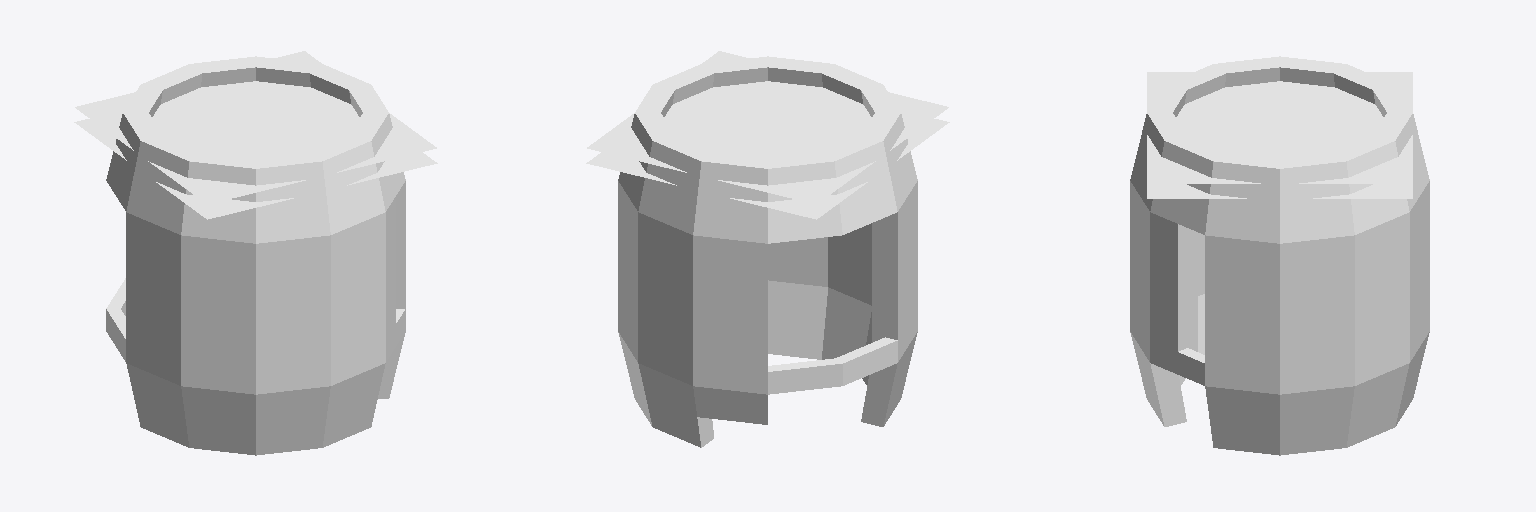
File: broken_rusty_round_barrel_down.obj
The picture shows the model from 3 angles: view 1: azimuth 30°, elevation 25°; view 2: azimuth 150°, elevation 25°; view 3: azimuth 270°, elevation 25°; orthographic projection.
Parts seen in each view (by area): view 1: barrel1, bottom, barrel5, barrel3; view 2: barrel1, bottom, barrel3, barrel2; view 3: barrel1, bottom, barrel5, barrel4.
Part boxes in pixels (bbox=[...]): barrel1: bbox=[106, 56, 405, 455]; bottom: bbox=[74, 51, 437, 219]; barrel5: bbox=[386, 197, 395, 361]; barrel3: bbox=[106, 278, 125, 361]; barrel1: bbox=[618, 56, 917, 447]; bottom: bbox=[586, 51, 949, 219]; barrel3: bbox=[768, 337, 897, 394]; barrel2: bbox=[693, 386, 767, 424]; barrel1: bbox=[1130, 56, 1429, 455]; bottom: bbox=[1147, 72, 1412, 198]; barrel5: bbox=[1150, 212, 1197, 374]; barrel4: bbox=[1178, 348, 1204, 385].
Size of the model in its own units: 1.12 by 1.19 by 1.12.